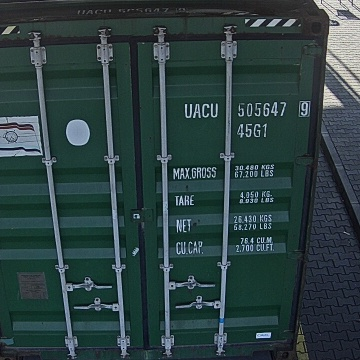serial_id: (184, 101, 307, 118)
